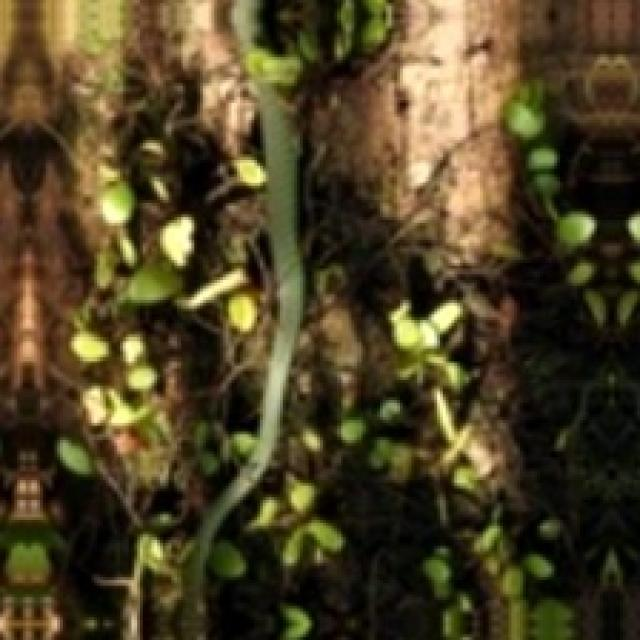paradise tree snake: (186, 0, 305, 639)
